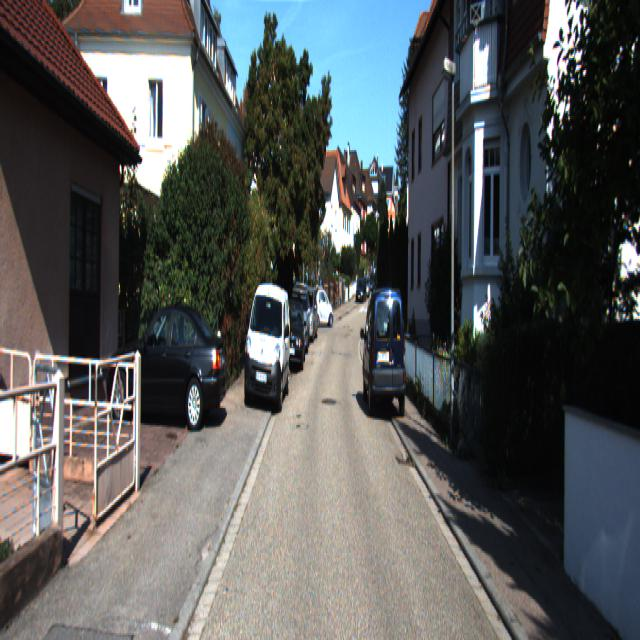Car: (108, 295, 231, 430), (243, 277, 293, 414), (362, 291, 408, 424), (279, 300, 306, 372), (288, 283, 310, 357), (295, 285, 319, 343), (313, 288, 335, 328)
